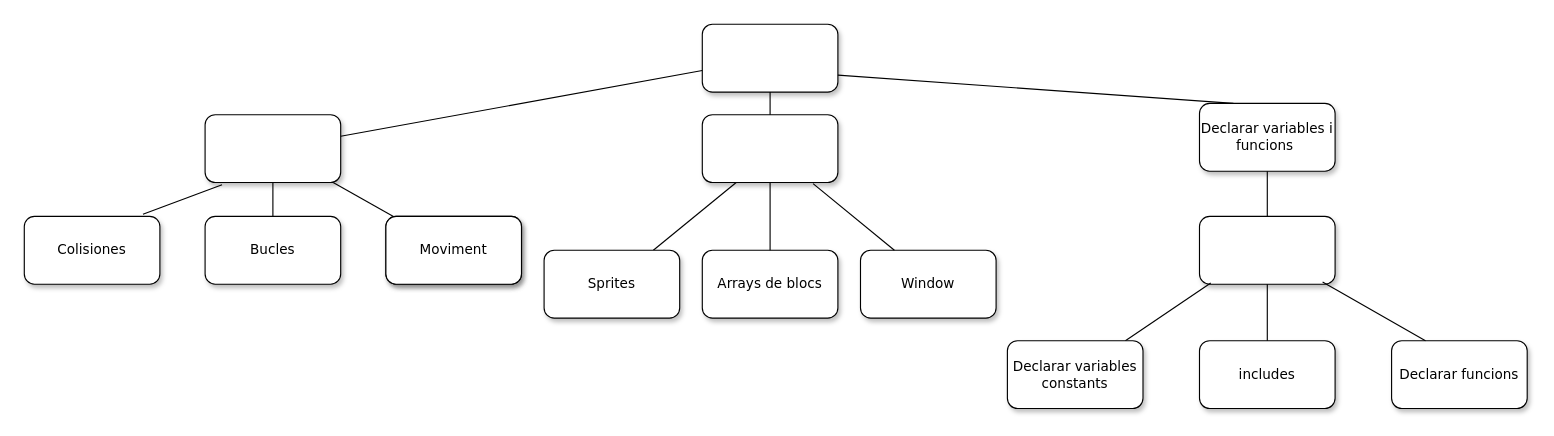
Image size: 1554x436. Some labels were removed from this diagram. Here are the shapes that lost their labels. From the top down, the centre of each, then its label:
pixel 771 59: Frontó game
pixel 273 149: Funcions
pixel 771 149: Visual
pixel 1268 251: Header
